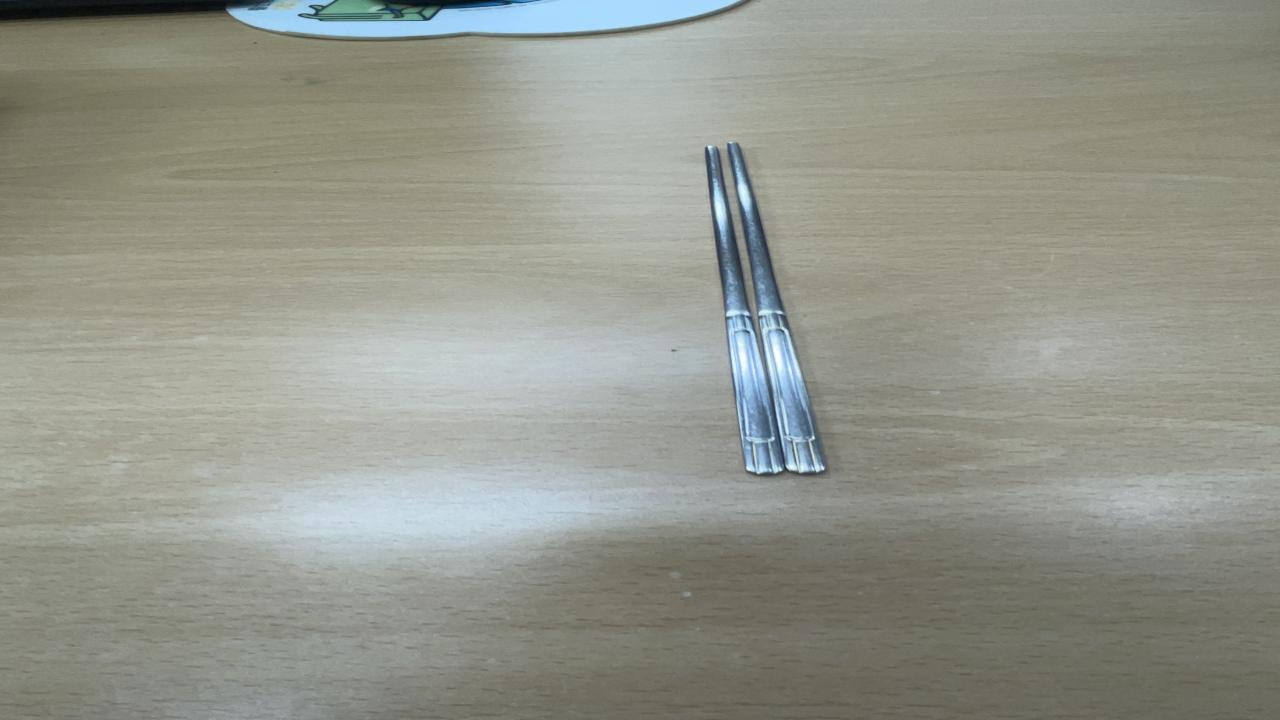chopstick: (688, 139, 842, 477)
